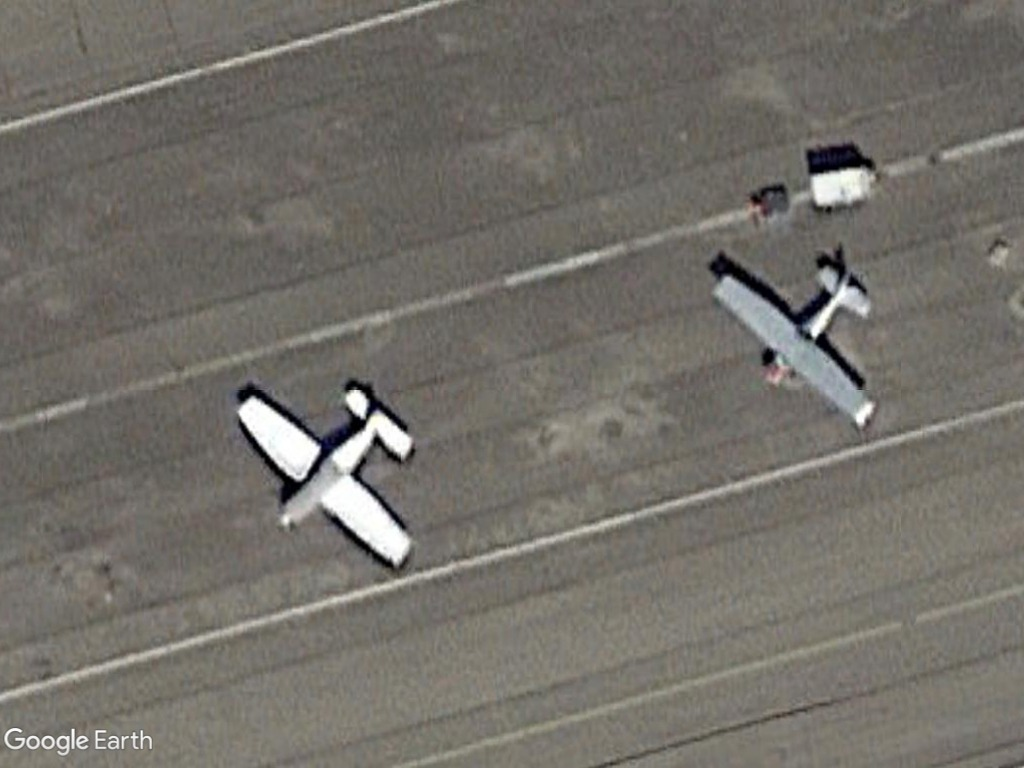trainer: (232, 381, 418, 576), (698, 253, 886, 431)
